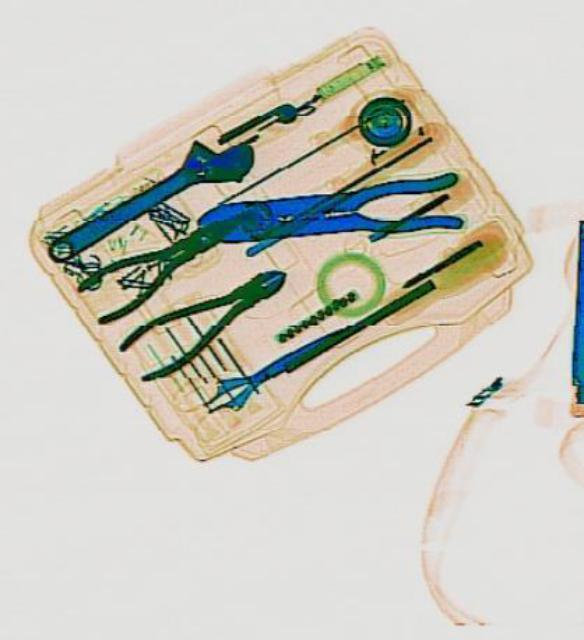Knife: (190, 311, 354, 423)
Pliers: (72, 186, 261, 328), (112, 246, 298, 388), (193, 168, 459, 254)
Wrench: (32, 115, 263, 278)
